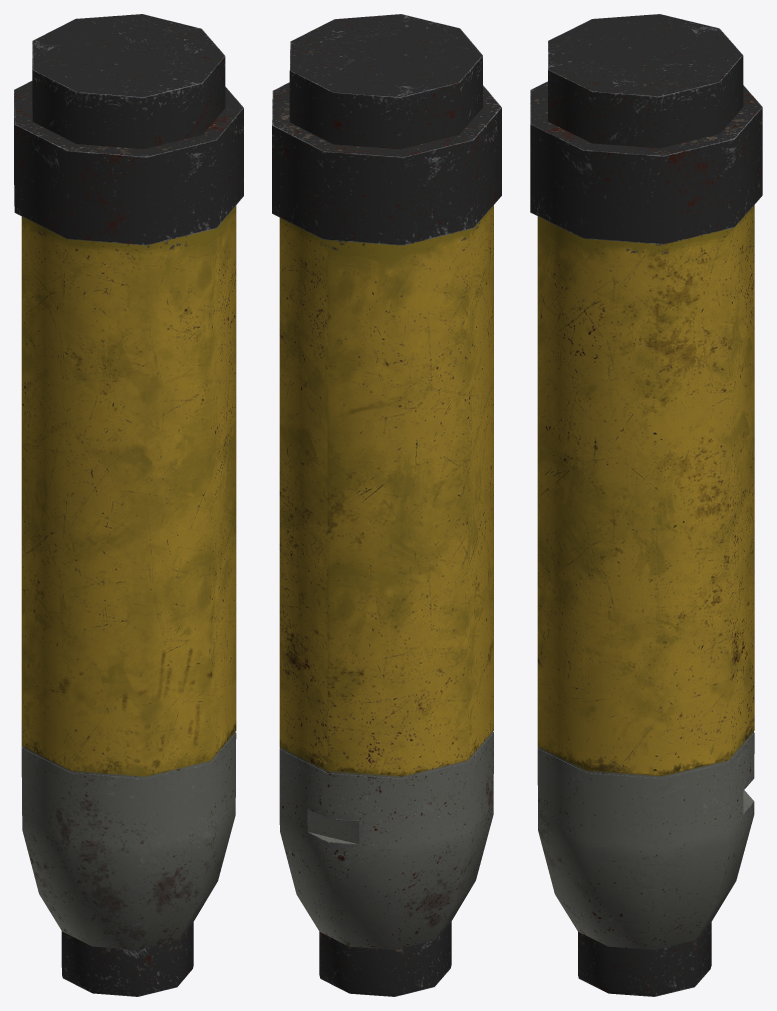
Rendered from fuse.fbx.
3 renders of one model, left to right at view 1: azimuth 30°, elevation 25°; view 2: azimuth 150°, elevation 25°; view 3: azimuth 270°, elevation 25°, orthographic.
Parts seen in each view (by area): view 1: HE; view 2: HE; view 3: HE.
Part boxes in pixels (x1=…): HE: x1=14, y1=14, x2=243, y2=996; HE: x1=272, y1=14, x2=501, y2=996; HE: x1=530, y1=14, x2=762, y2=996.
Size of the model in its own units: 3.21 by 13.95 by 3.21.
